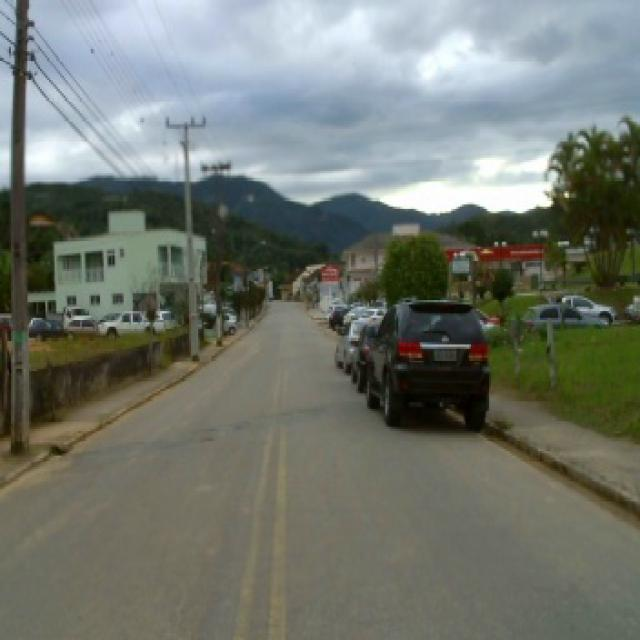Poth-hole: (51, 444, 69, 456), (198, 433, 214, 442)
